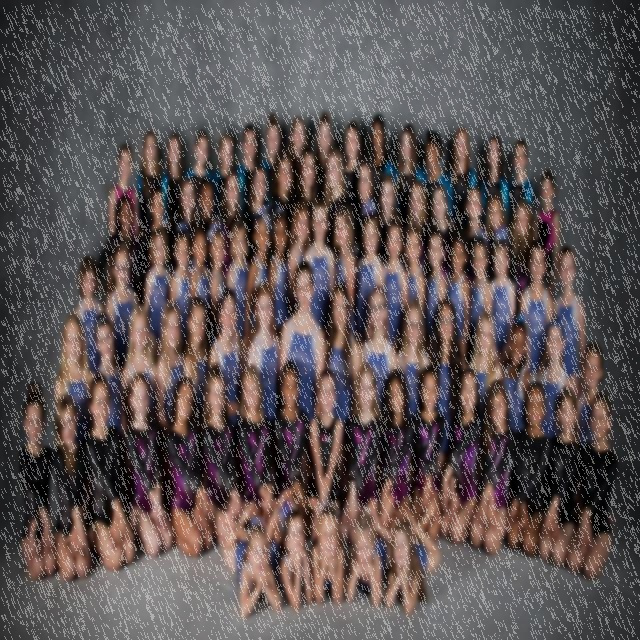pessoa: (81, 364, 139, 574), (278, 258, 326, 480), (566, 389, 620, 580), (13, 374, 61, 584), (163, 374, 216, 562), (466, 376, 518, 558), (124, 372, 174, 560), (338, 361, 384, 545), (217, 494, 283, 618), (506, 380, 552, 557), (324, 281, 362, 492), (202, 360, 244, 550), (439, 366, 483, 545), (53, 390, 94, 582), (538, 382, 580, 568), (246, 278, 280, 498), (270, 357, 314, 520), (382, 504, 442, 618), (410, 362, 446, 544), (263, 487, 314, 612), (237, 362, 274, 528), (377, 366, 413, 534), (346, 493, 396, 609), (428, 296, 464, 456), (527, 318, 573, 440), (54, 310, 96, 442), (96, 190, 143, 306), (308, 362, 344, 512), (120, 302, 158, 444), (358, 284, 398, 418), (554, 243, 586, 401), (518, 240, 554, 378), (208, 286, 242, 430), (241, 204, 273, 356), (104, 241, 139, 377), (264, 148, 298, 285), (466, 308, 504, 428), (130, 182, 170, 296), (396, 296, 432, 422), (154, 298, 186, 436), (530, 164, 562, 300), (304, 200, 336, 335), (402, 176, 432, 320), (307, 495, 345, 608), (342, 120, 364, 310), (182, 293, 212, 429), (392, 122, 426, 242), (356, 214, 386, 348), (143, 224, 173, 346), (382, 215, 408, 355), (74, 254, 104, 375), (161, 130, 185, 278), (502, 318, 533, 432), (243, 162, 274, 276), (508, 198, 538, 313), (94, 312, 122, 434), (136, 129, 167, 239), (168, 226, 193, 362), (265, 208, 291, 338), (488, 236, 516, 354), (446, 235, 472, 362), (350, 159, 382, 262), (446, 126, 477, 232), (225, 218, 251, 342), (213, 169, 241, 284), (108, 142, 140, 240), (480, 132, 510, 232), (286, 200, 312, 315), (324, 146, 350, 261), (334, 205, 356, 338), (576, 340, 604, 444), (424, 226, 448, 346), (422, 125, 452, 221), (429, 182, 457, 282), (374, 172, 402, 268), (467, 234, 493, 337), (484, 190, 513, 282), (462, 186, 488, 286), (367, 112, 394, 204), (506, 137, 534, 223), (310, 110, 334, 204), (236, 121, 258, 222), (403, 225, 426, 316), (259, 112, 281, 206), (207, 220, 227, 322), (188, 226, 211, 310), (172, 176, 200, 236), (210, 132, 234, 194), (185, 128, 212, 181), (196, 175, 218, 232), (289, 114, 307, 172), (299, 148, 318, 202)
